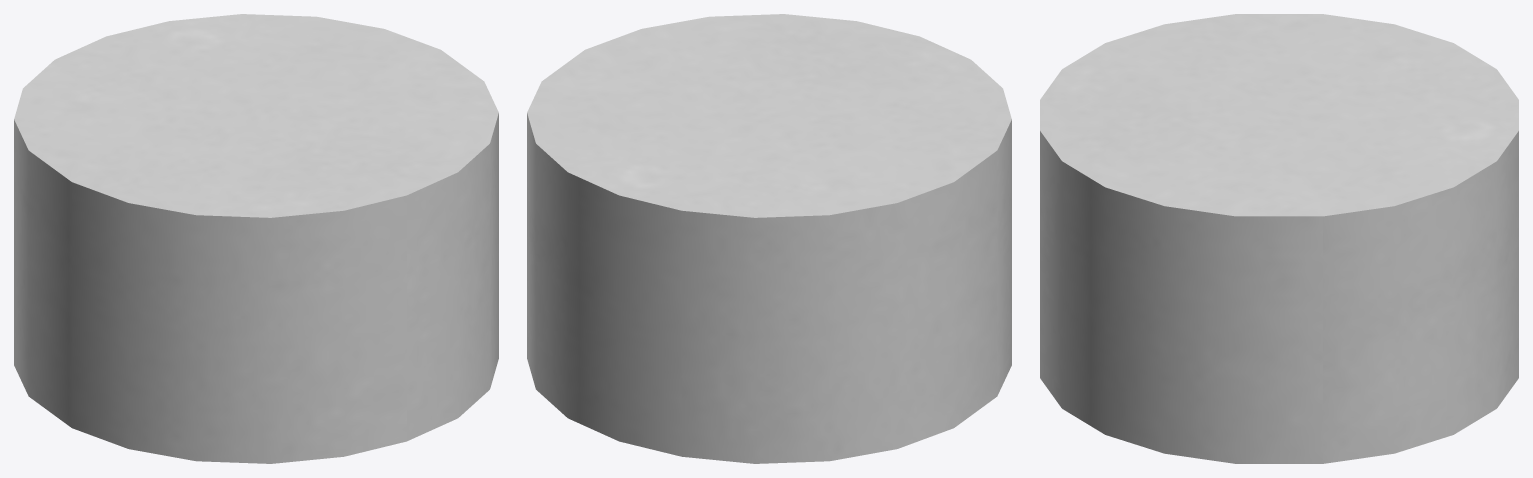
File: SM_氢氟酸盖.FBX
3 views of the same model, side by side, from view 1: azimuth 30°, elevation 25°; view 2: azimuth 150°, elevation 25°; view 3: azimuth 270°, elevation 25° (orthographic).
Visible parts, largest first — view 1: SM_氢氟酸盖; view 2: SM_氢氟酸盖; view 3: SM_氢氟酸盖.
Part boxes in pixels (x1,y1,x2,y2): SM_氢氟酸盖: (14,14,498,463); SM_氢氟酸盖: (527,14,1011,463); SM_氢氟酸盖: (1040,14,1518,463).
Size of the model in its own units: 22.46 by 12.8 by 22.45.
